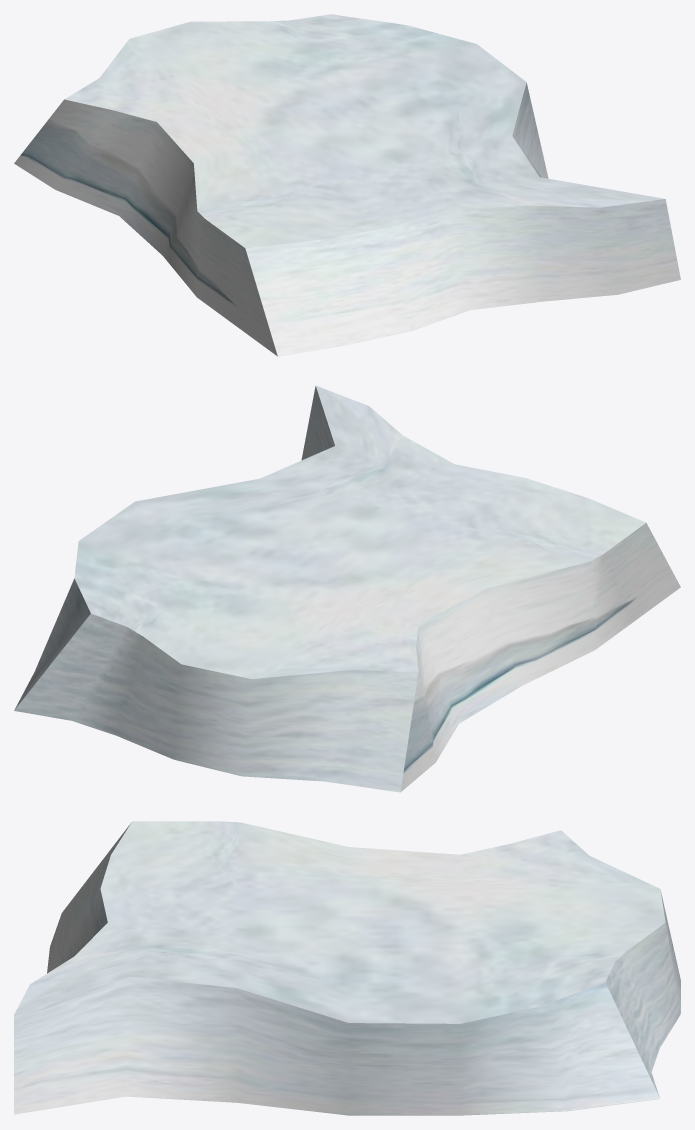
File: SmallIce_D.fbx
3 renders of one model, top to bottom at view 1: azimuth 30°, elevation 25°; view 2: azimuth 150°, elevation 25°; view 3: azimuth 270°, elevation 25°, orthographic. The views are drawn at different scales.
Parts seen in each view (by area): view 1: pCube4; view 2: pCube4; view 3: pCube4.
Boxes of the visible parts, left/top/right/bottom form: pCube4: left=14, top=14, right=680, bottom=356; pCube4: left=14, top=385, right=680, bottom=792; pCube4: left=14, top=821, right=680, bottom=1115.
Bounding box in the file's own units: 6.86 × 1.45 × 9.54.
Materials: 1 (1 with a texture image).
